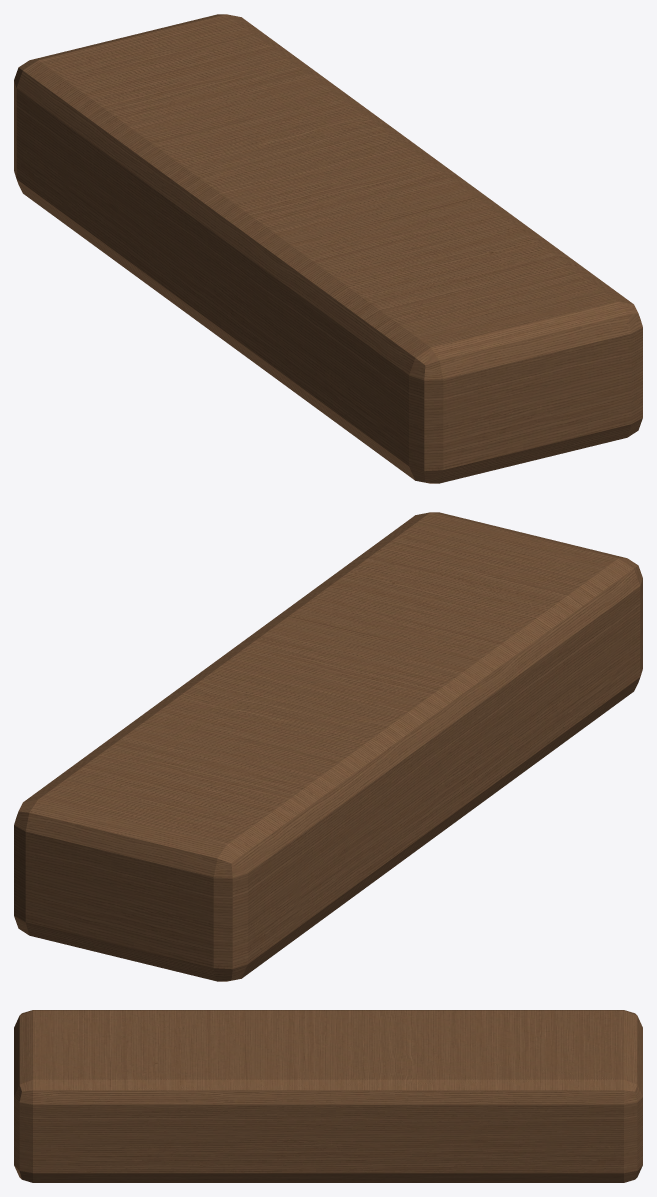
Rendered from pen_rest.glb.
3 views of the same model, one above another, from view 1: azimuth 30°, elevation 25°; view 2: azimuth 150°, elevation 25°; view 3: azimuth 270°, elevation 25° (orthographic). The views are drawn at different scales.
Visible parts, largest first — view 1: pen_rest; view 2: pen_rest; view 3: pen_rest.
Part boxes in pixels (x1,y1,x2,y2): pen_rest: (14, 14, 642, 483); pen_rest: (14, 512, 642, 981); pen_rest: (14, 1010, 642, 1182).
Size of the model in its own units: 0.016 by 0.009 by 0.05.
1 material, 1 textured.
